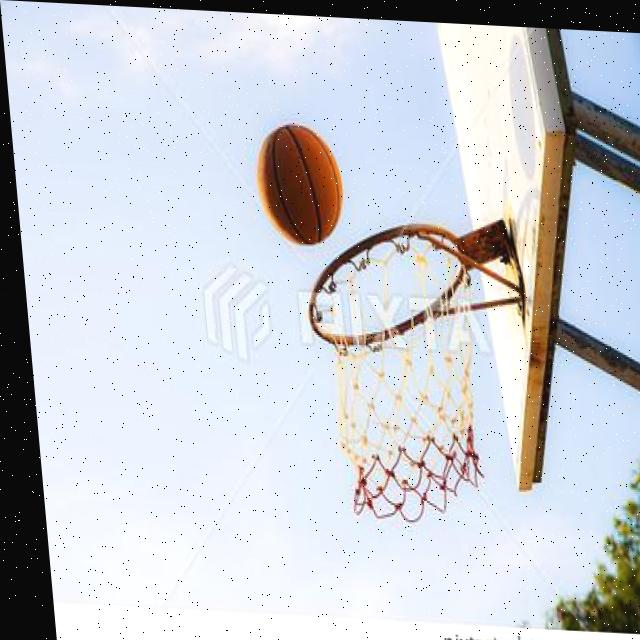basketball: (251, 119, 349, 247)
hoop: (298, 216, 492, 520)
